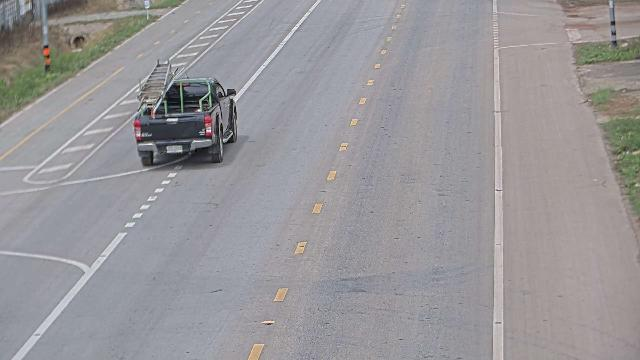pickup-truck: (132, 59, 238, 167)
